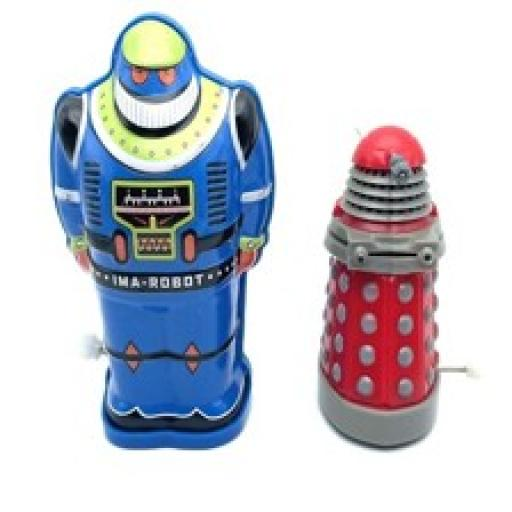dalek: (316, 118, 448, 458)
